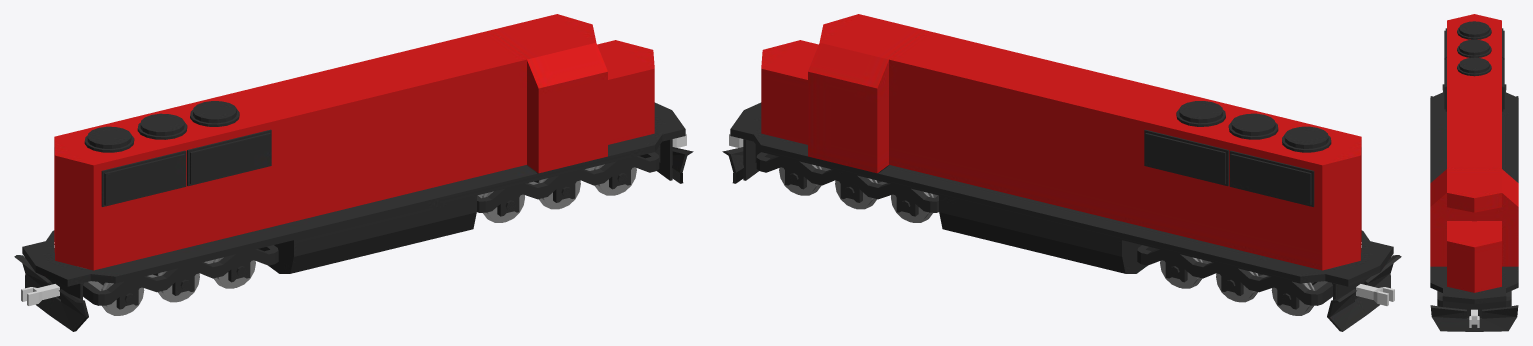
Rendered from Locomotive_USA_Couplers_Mesh_New.glb.
3 views of the same model, side by side, from view 1: azimuth 30°, elevation 25°; view 2: azimuth 150°, elevation 25°; view 3: azimuth 270°, elevation 25° (orthographic). The views are drawn at different scales.
Parts seen in each view (by area): view 1: Locomotive_USA_Hull, Locomotive_USA_Bogie_2, Locomotive_USA_Bogie_1, Locomotive_USA_Coupler_Back; view 2: Locomotive_USA_Hull, Locomotive_USA_Bogie_2, Locomotive_USA_Bogie_1, Locomotive_USA_Coupler_Back; view 3: Locomotive_USA_Hull, Locomotive_USA_Bogie_1, Locomotive_USA_Coupler_Front.
Boxes of the visible parts, <box> form: Locomotive_USA_Hull: <box>14,14,693,331</box>; Locomotive_USA_Bogie_2: <box>83,245,278,315</box>; Locomotive_USA_Bogie_1: <box>477,152,659,222</box>; Locomotive_USA_Coupler_Back: <box>21,284,59,305</box>; Locomotive_USA_Hull: <box>722,14,1401,331</box>; Locomotive_USA_Bogie_2: <box>1137,245,1332,315</box>; Locomotive_USA_Bogie_1: <box>756,152,938,222</box>; Locomotive_USA_Coupler_Back: <box>1356,284,1394,305</box>; Locomotive_USA_Hull: <box>1430,14,1518,331</box>; Locomotive_USA_Bogie_1: <box>1437,291,1511,306</box>; Locomotive_USA_Coupler_Front: <box>1469,309,1479,327</box>.
Size of the model in its own units: 1.7 by 0.416 by 0.2807.
Materials: 3 (3 with a texture image).
